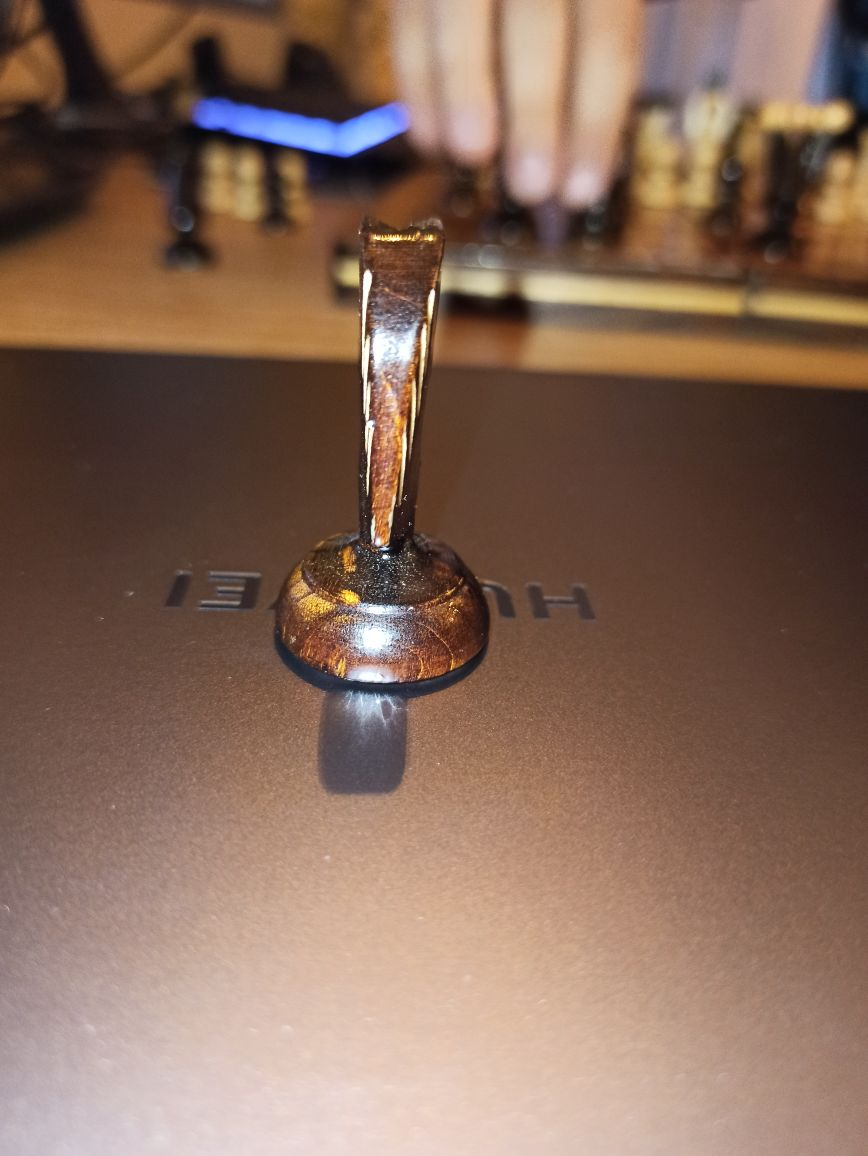bknight: (267, 212, 496, 692)
